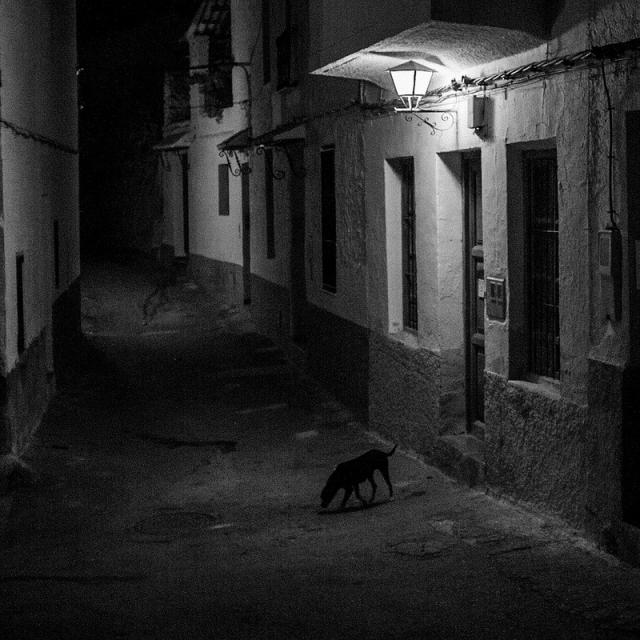Dog: (304, 402, 417, 543)
